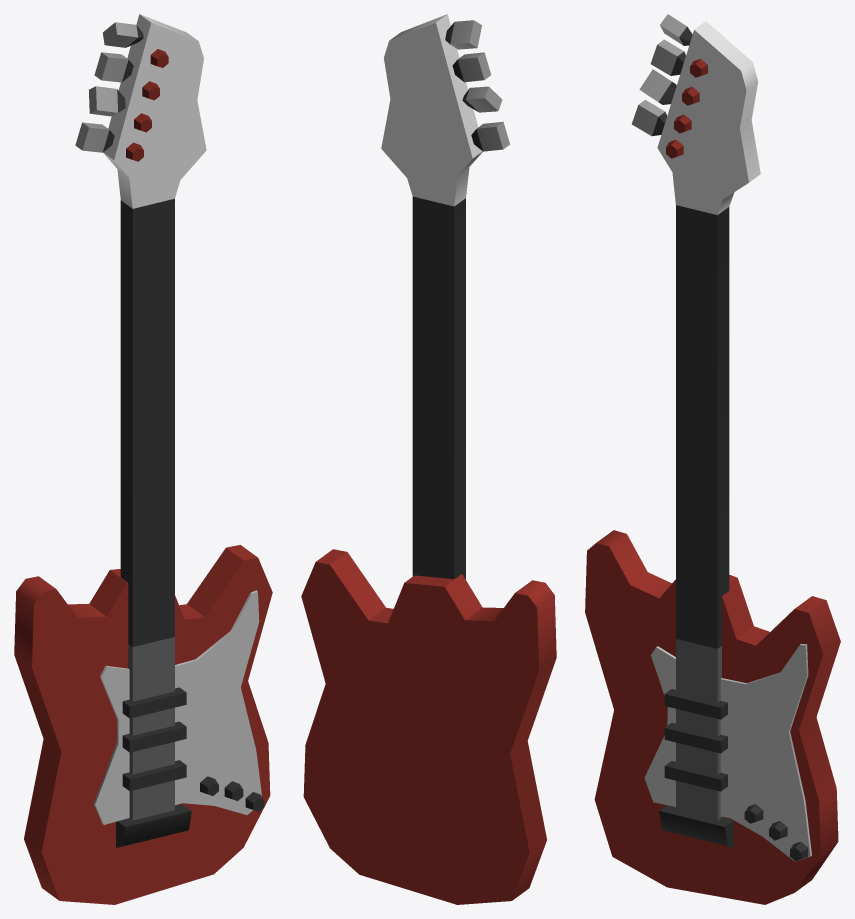
File: guitarpass_red.fbx
The picture shows the model from 3 angles, left to right: view 1: azimuth 30°, elevation 25°; view 2: azimuth 150°, elevation 25°; view 3: azimuth 330°, elevation 25°; orthographic projection.
Parts seen in each view (by area): view 1: guitarpass_red; view 2: guitarpass_red; view 3: guitarpass_red.
Boxes of the visible parts, box(x1,y1,x2,y2) form: guitarpass_red: box(14, 14, 272, 904); guitarpass_red: box(301, 14, 556, 904); guitarpass_red: box(585, 14, 840, 904).
Bounding box in the file's own units: 89.54 × 314 × 17.6.
